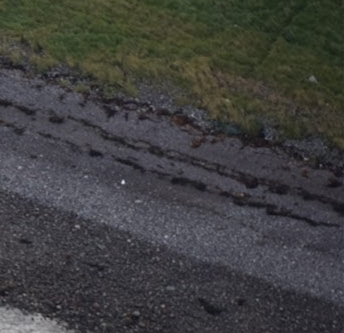white_in_green: (104, 164, 141, 198)
